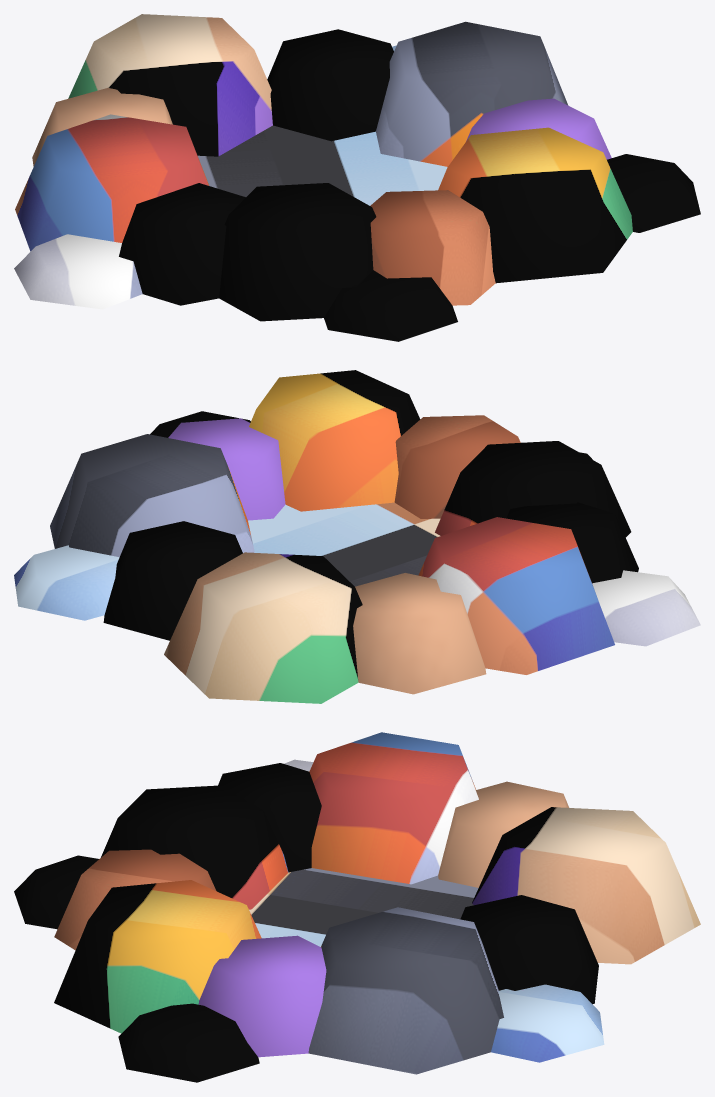
Rendered from SM_VolcanoHole_A.fbx.
3 views of the same model, one above another, from view 1: azimuth 30°, elevation 25°; view 2: azimuth 150°, elevation 25°; view 3: azimuth 270°, elevation 25° (orthographic). The views are drawn at different scales.
Visible parts, largest first — view 1: hole; view 2: hole; view 3: hole.
Boxes of the visible parts, <box> form: hole: <box>14,14,700,341</box>; hole: <box>14,370,700,703</box>; hole: <box>14,732,700,1082</box>.
Size of the model in its own units: 0.7787 by 0.0964 by 0.7361.
